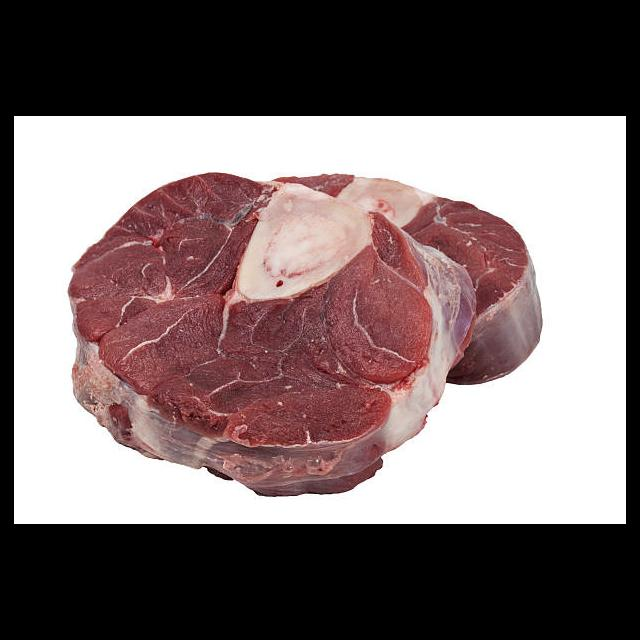beef: (66, 169, 545, 500)
